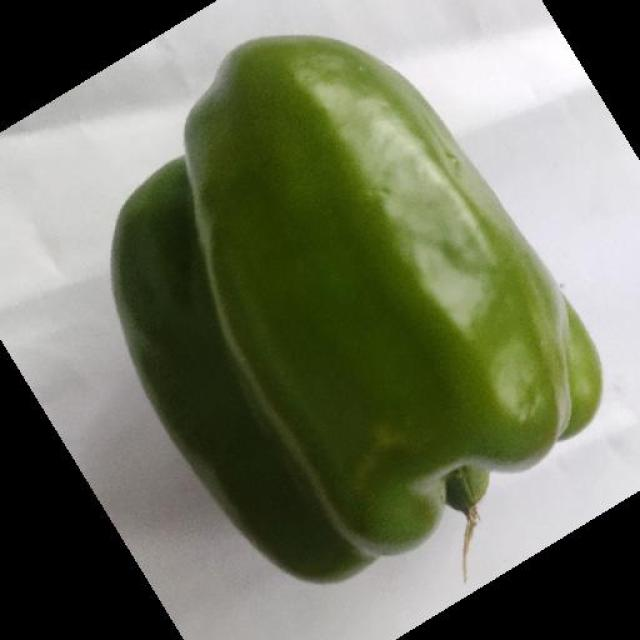Fresh_Capsicum: (147, 173, 540, 494)
